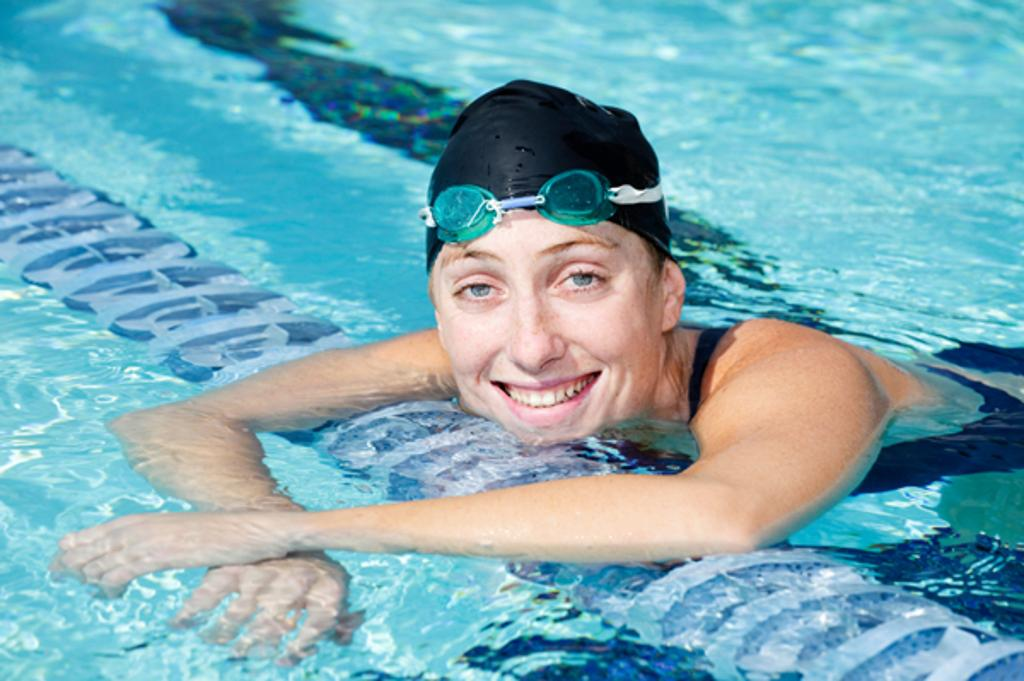face: (436, 214, 642, 448)
